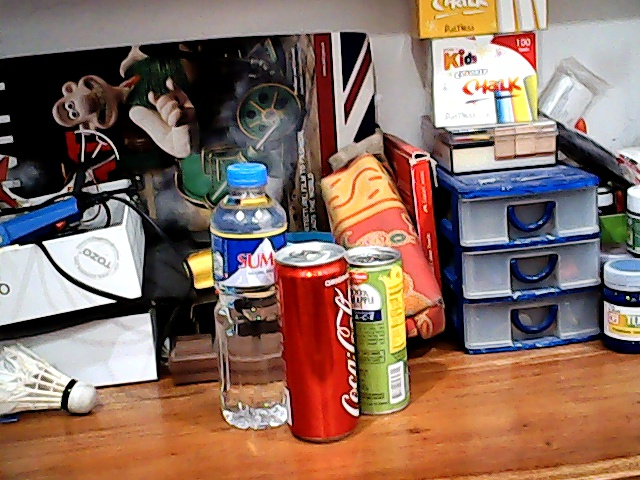Cola: (276, 235, 363, 445)
Pine Juice: (347, 238, 413, 419)
Summit Water: (202, 161, 293, 442)
